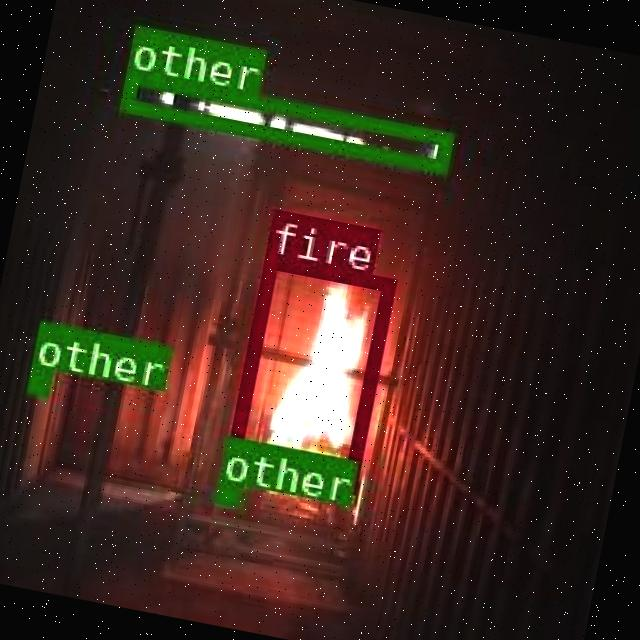fire: (224, 253, 396, 492)
